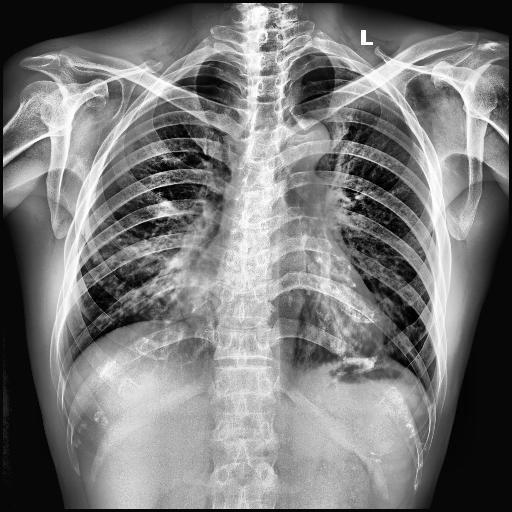0- Aortic enlargement: (280, 114, 330, 176), (279, 118, 335, 170), (282, 118, 330, 162)
3- Cardiomegaly: (178, 252, 384, 362), (174, 282, 381, 376), (181, 268, 382, 352)
6- Infiltration: (120, 256, 181, 326)
7- Lung Opacity: (120, 256, 181, 326)
